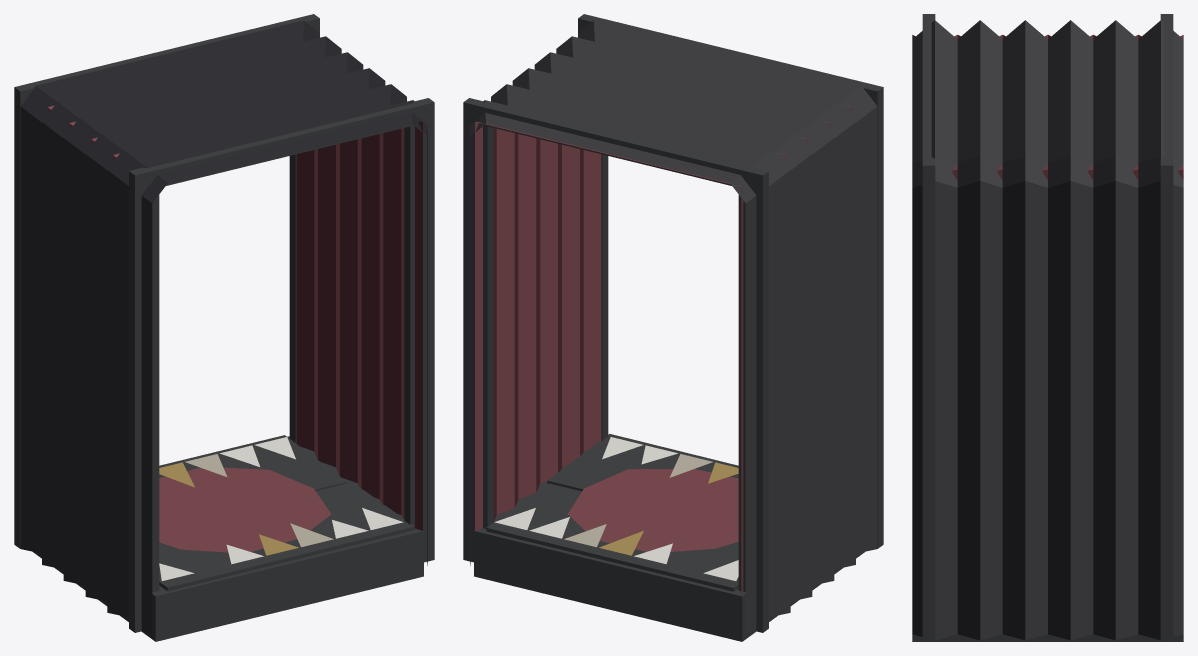
Rendered from gangway.glb.
3 views of the same model, side by side, from view 1: azimuth 30°, elevation 25°; view 2: azimuth 150°, elevation 25°; view 3: azimuth 270°, elevation 25° (orthographic). The views are drawn at different scales.
Parts seen in each view (by area): view 1: Gangway; view 2: Gangway; view 3: Gangway.
Boxes of the visible parts, x1=… form: Gangway: x1=14, y1=14, x2=434, y2=641; Gangway: x1=463, y1=14, x2=883, y2=641; Gangway: x1=912, y1=14, x2=1183, y2=641.
Bounding box in the file's own units: 1.72 × 2.57 × 1.3.
